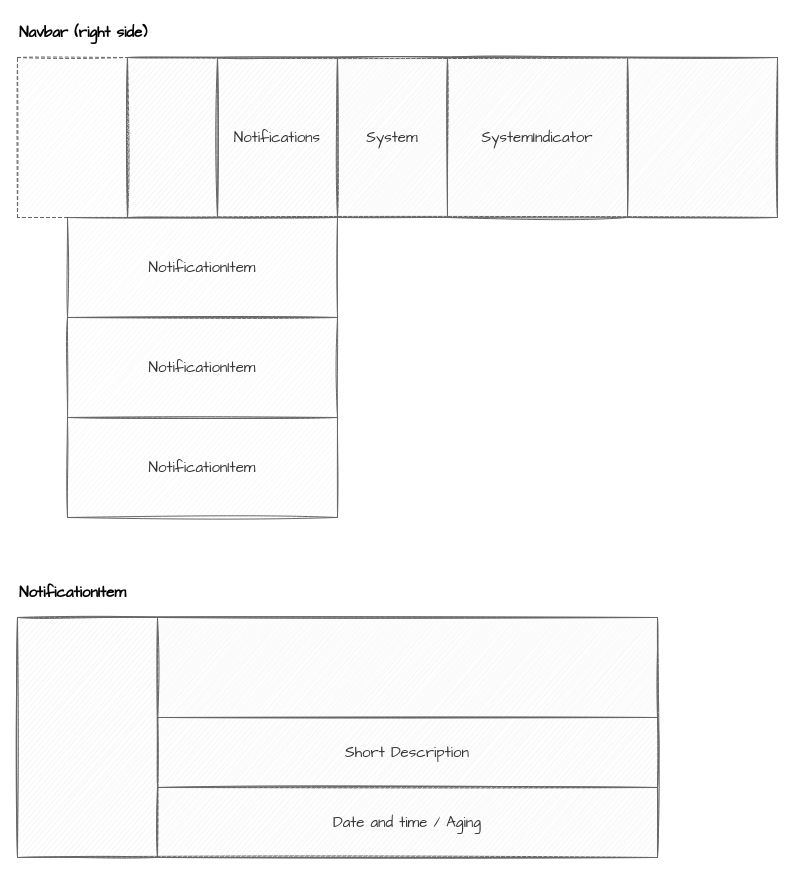
The diagram is 795 pixels wide and 875 high, and some of its shapes have lost their labels. The centre of each missing label's shape, as x and y in pixels:
Full Screen Toggle: the point at 702,137
Icon: the point at 87,737
Search: the point at 172,137
Title: the point at 407,667
